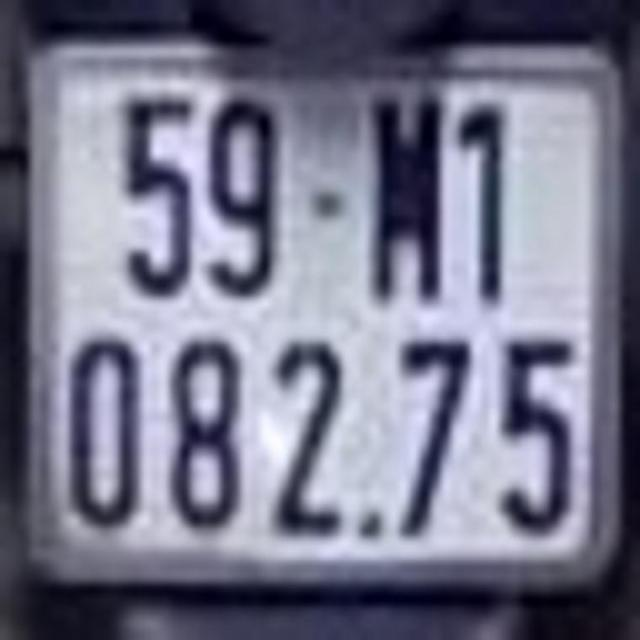0: (67, 340, 141, 524)
1: (459, 106, 506, 303)
2: (272, 338, 348, 533)
5: (504, 340, 572, 532), (129, 100, 194, 295)
7: (390, 334, 472, 542)
8: (174, 337, 243, 529)
9: (211, 100, 273, 300)
M: (380, 102, 440, 310)
